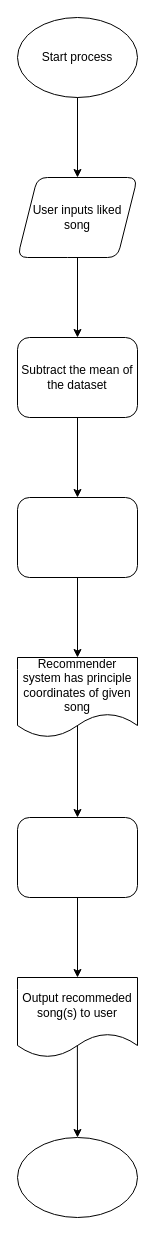
The diagram is 155 pixels wide and 1235 high, and some of its shapes have lost their labels. The shapes that lost their labels are listed below. From the top down, each one's centre as x and y in pixels, then its label:
At pixel 77 537: "Multiply by principle components".
At pixel 77 857: "Use kNN to determine similar song(s)".
At pixel 77 1177: "End process".
